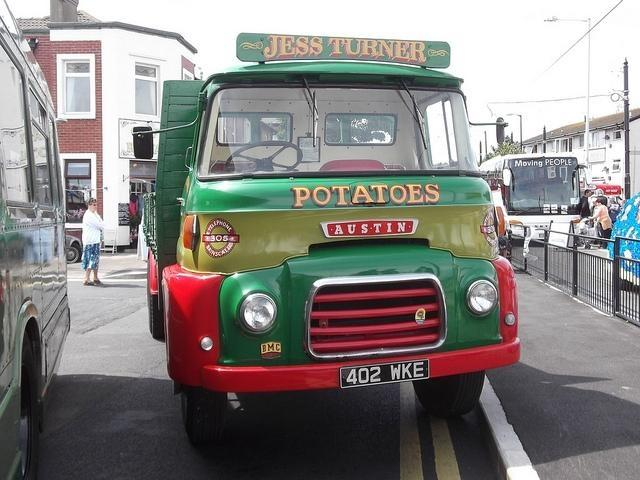bus: (480, 154, 580, 224)
truck: (143, 33, 518, 451), (0, 0, 71, 474)
